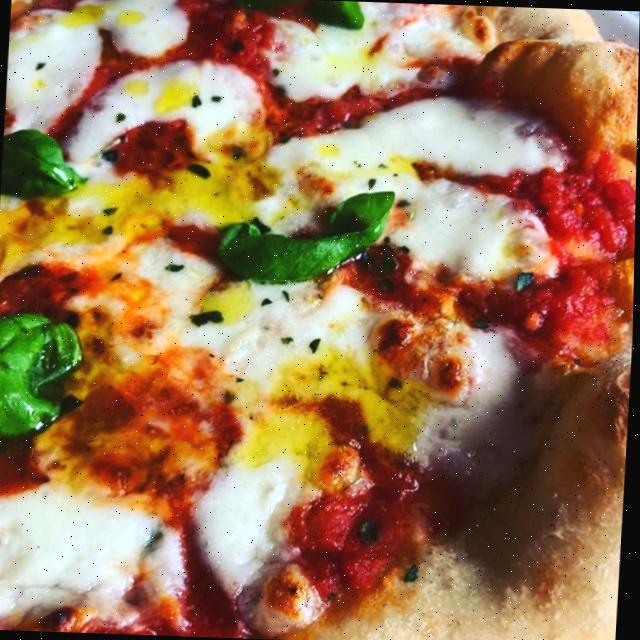basil: (212, 182, 401, 290), (0, 299, 86, 440), (0, 126, 92, 207), (228, 0, 366, 33)
pizza: (0, 0, 640, 640)
